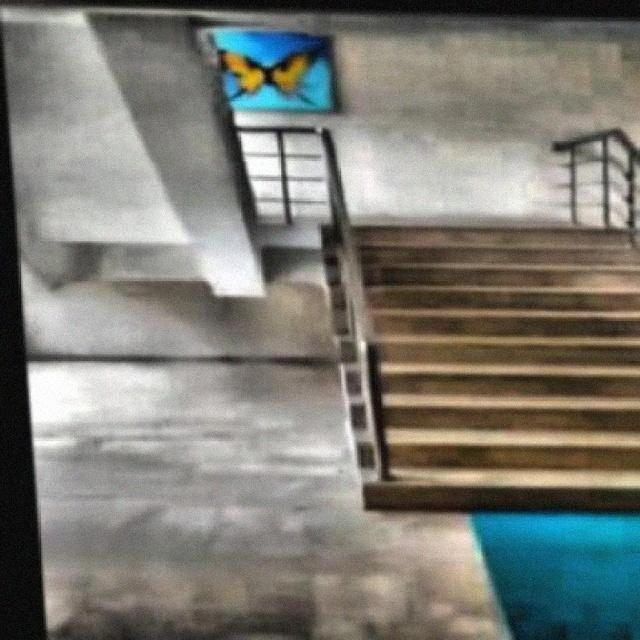stair: (318, 209, 638, 511)
